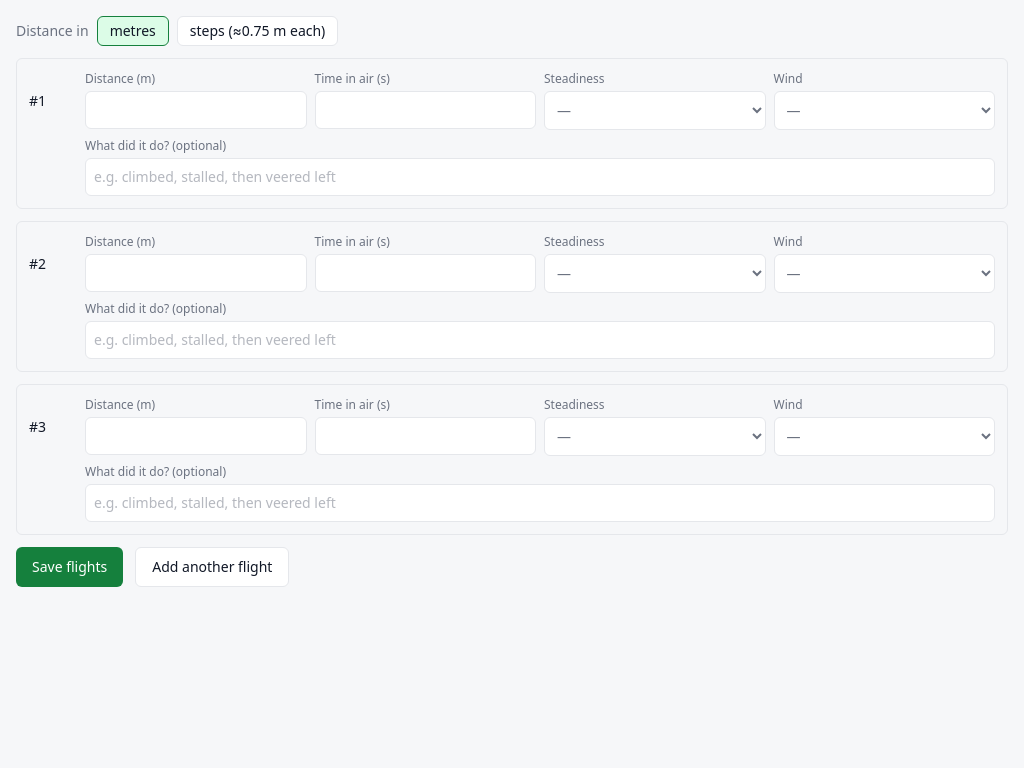
Scenario: RecordFlights › shows the problem instead of submitting an empty form
The image size is (1024, 768).
Click the button "Save flights": (70, 567) x1=16 y1=547 x2=123 y2=587
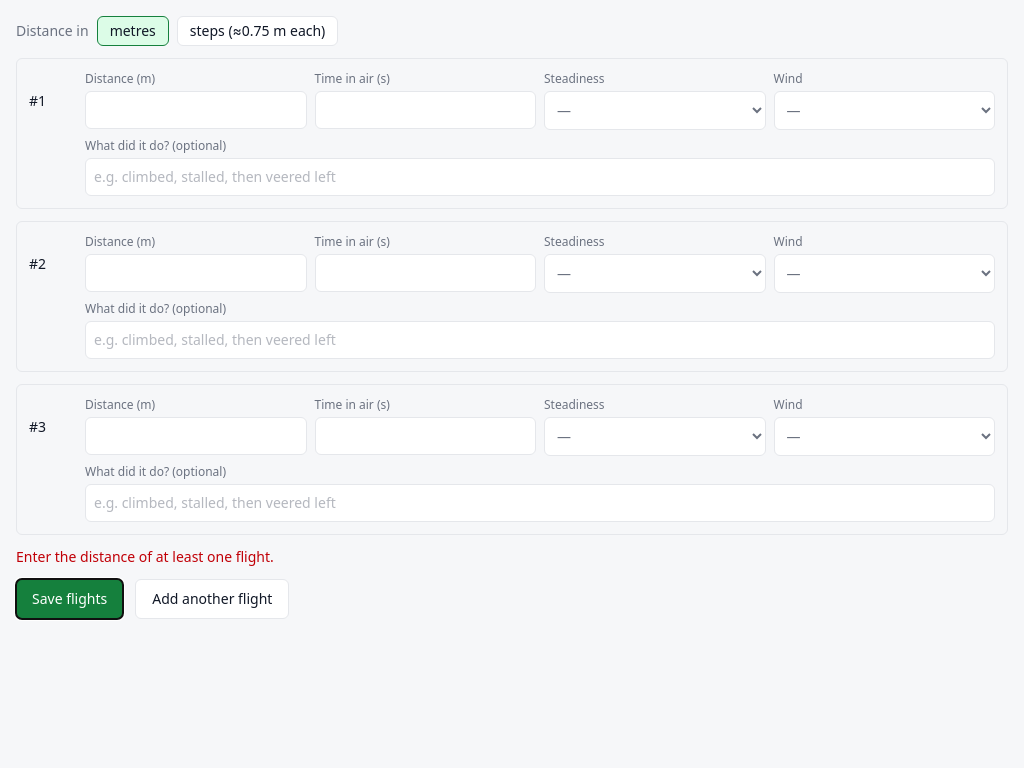
Result: the message shows "at least one flight" at x1=16 y1=547 x2=274 y2=566
